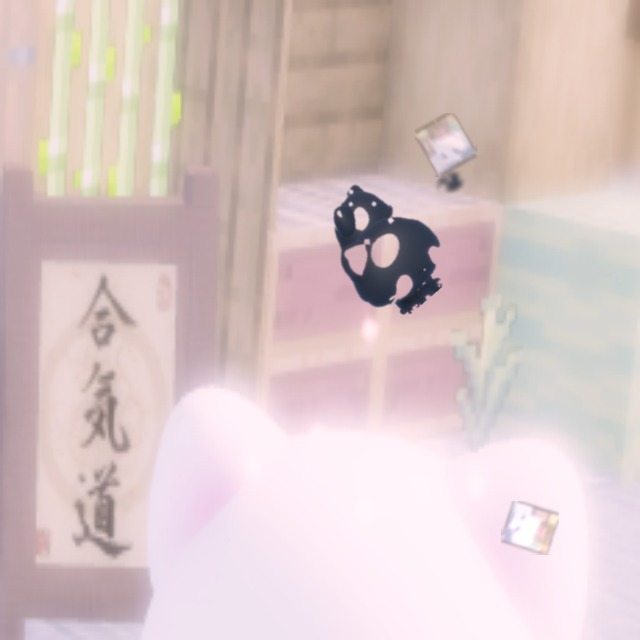urso_branco: (415, 113, 477, 177), (501, 501, 559, 555)
urso_preto: (292, 152, 472, 335), (431, 169, 469, 198)
